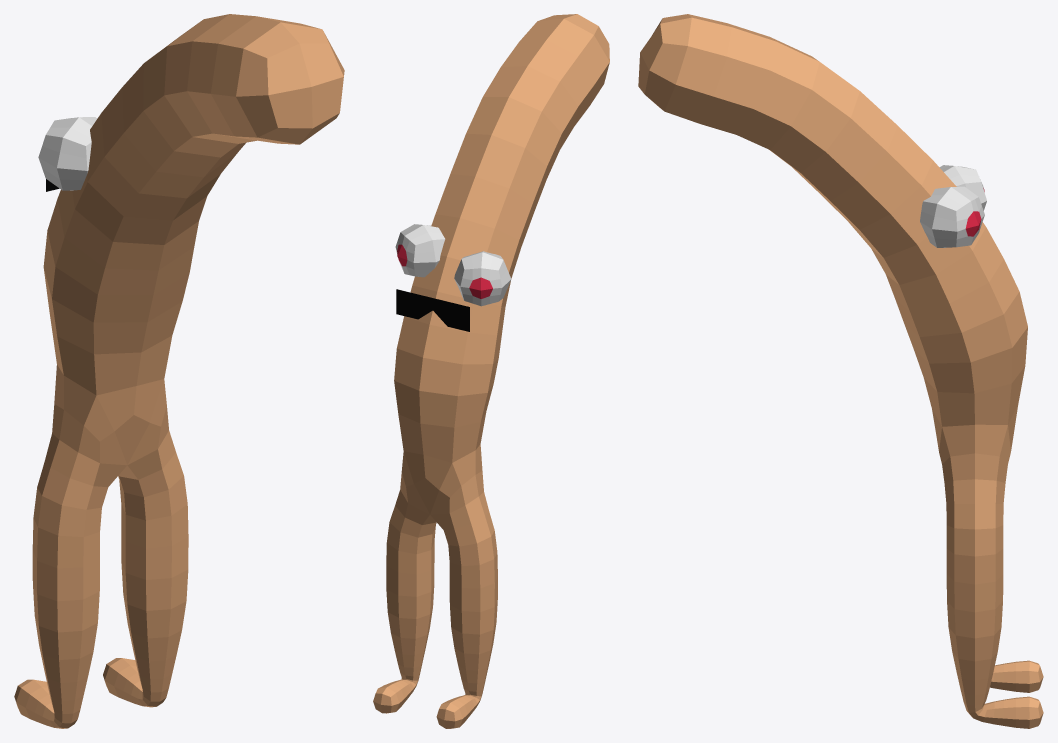
File: Bullshi.glb
3 views of the same model, side by side, from view 1: azimuth 30°, elevation 25°; view 2: azimuth 150°, elevation 25°; view 3: azimuth 270°, elevation 25° (orthographic). The views are drawn at different scales.
Visible parts, largest first — view 1: Cube, Cube.001; view 2: Cube, Cube.001, Cube.002, Plane; view 3: Cube, Cube.002, Cube.001.
Boxes of the visible parts, x1,y1,x2,y2 form: Cube: [14, 14, 344, 728]; Cube.001: [38, 117, 97, 190]; Cube: [373, 14, 609, 728]; Cube.001: [454, 251, 511, 306]; Cube.002: [395, 224, 445, 277]; Plane: [396, 289, 469, 331]; Cube: [638, 14, 1043, 728]; Cube.002: [920, 186, 984, 247]; Cube.001: [939, 165, 986, 210].
Size of the model in its own units: 3.69 by 19.06 by 10.11.
